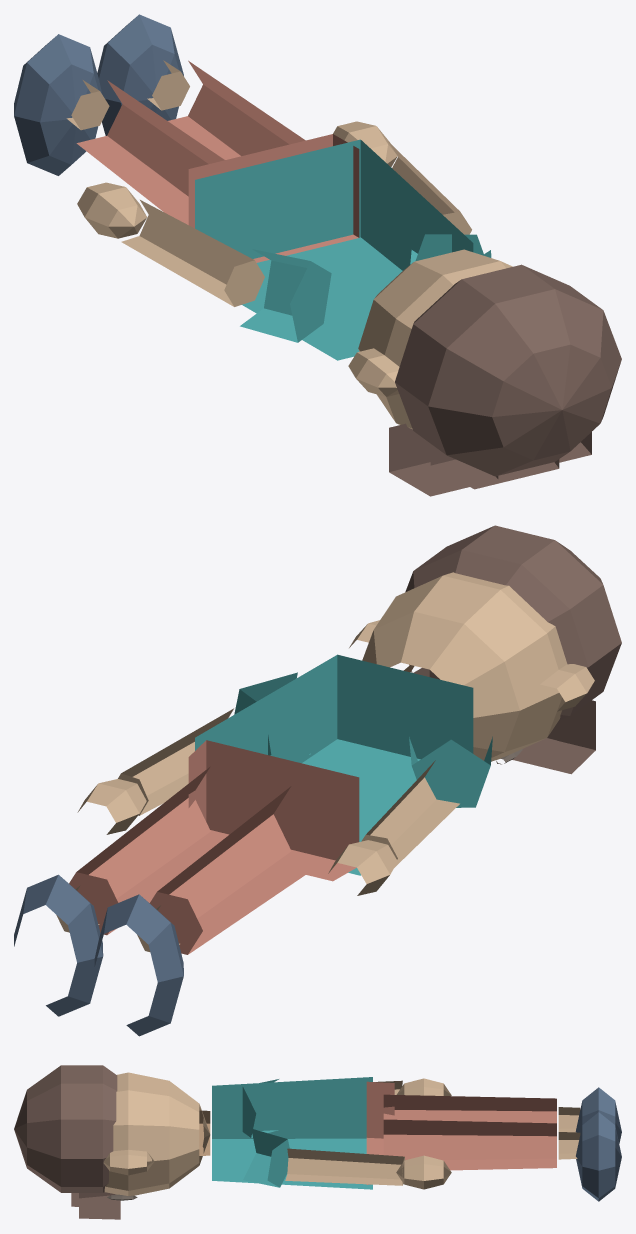
File: janus_character_from_turnaround.glb
The picture shows the model from 3 angles, top to bottom: view 1: azimuth 30°, elevation 25°; view 2: azimuth 150°, elevation 25°; view 3: azimuth 270°, elevation 25°; orthographic projection. The views are drawn at different scales.
Parts seen in each view (by area): view 1: HairCap, Shirt, LeftShoe, LeftTrouser, Head, LeftArm, RightTrouser, RightShoe, LeftSleeve, PantsHips, Fringe1, LeftHand (+7 smaller); view 2: Shirt, Head, HairCap, PantsHips, LeftTrouser, RightTrouser, LeftShoe, RightShoe, LeftArm, LeftSleeve, RightArm, Fringe1 (+4 smaller); view 3: Shirt, HairCap, Head, RightTrouser, LeftTrouser, RightArm, RightShoe, RightSleeve, PantsHips, RightHand, LeftShoe, RightEar (+7 smaller).
Part boxes in pixels (x1=…): HairCap: x1=395, y1=264, x2=621, y2=476; Shirt: x1=195, y1=139, x2=473, y2=360; LeftShoe: x1=14, y1=34, x2=101, y2=175; LeftTrouser: x1=76, y1=80, x2=224, y2=224; Head: x1=358, y1=249, x2=512, y2=429; LeftArm: x1=121, y1=200, x2=264, y2=306; RightTrouser: x1=168, y1=60, x2=305, y2=159; RightShoe: x1=97, y1=14, x2=183, y2=135; LeftSleeve: x1=240, y1=249, x2=331, y2=342; PantsHips: x1=188, y1=134, x2=359, y2=262; Fringe1: x1=389, y1=423, x2=498, y2=496; LeftHand: x1=77, y1=182, x2=147, y2=238; Shirt: x1=195, y1=654, x2=473, y2=875; Head: x1=362, y1=572, x2=567, y2=761; HairCap: x1=405, y1=525, x2=621, y2=720; PantsHips: x1=188, y1=740, x2=359, y2=881; LeftTrouser: x1=150, y1=786, x2=327, y2=954; RightTrouser: x1=69, y1=766, x2=227, y2=935; LeftShoe: x1=94, y1=894, x2=183, y2=1036; RightShoe: x1=14, y1=874, x2=103, y2=1016; LeftArm: x1=361, y1=760, x2=459, y2=867; LeftSleeve: x1=409, y1=736, x2=492, y2=807; RightArm: x1=118, y1=708, x2=233, y2=815; Fringe1: x1=512, y1=700, x2=595, y2=774; Shirt: x1=212, y1=1077, x2=372, y2=1189; HairCap: x1=14, y1=1065, x2=117, y2=1192; Head: x1=104, y1=1072, x2=210, y2=1195; RightTrouser: x1=383, y1=1119, x2=556, y2=1170; LeftTrouser: x1=383, y1=1094, x2=556, y2=1123; RightArm: x1=285, y1=1148, x2=404, y2=1185; RightShoe: x1=576, y1=1112, x2=621, y2=1201; RightSleeve: x1=243, y1=1128, x2=289, y2=1187; PantsHips: x1=366, y1=1081, x2=394, y2=1184; RightHand: x1=396, y1=1155, x2=451, y2=1189; LeftShoe: x1=575, y1=1087, x2=621, y2=1143; RightEar: x1=103, y1=1149, x2=154, y2=1175.
Size of the model in its own units: 1.44 by 0.8489 by 3.93.
